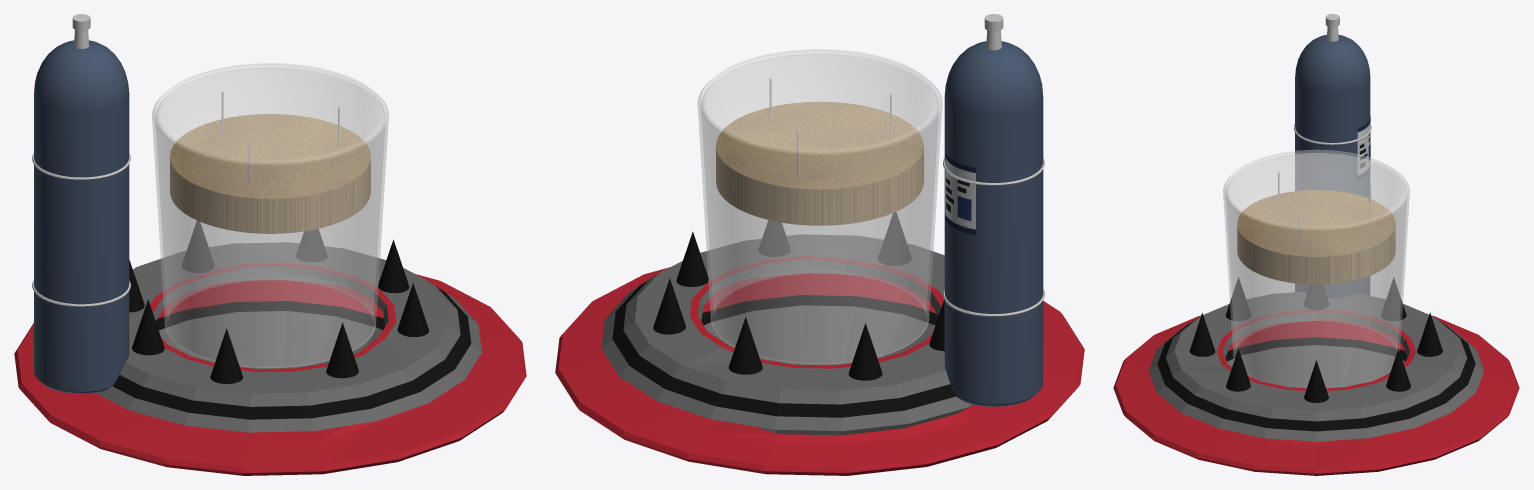
File: opus55_t04.glb
3 views of the same model, side by side, from view 1: azimuth 30°, elevation 25°; view 2: azimuth 150°, elevation 25°; view 3: azimuth 270°, elevation 25° (orthographic). The views are drawn at different scales.
Parts seen in each view (by area): view 1: slot_anchor_saucer, cover_glass, gas_cylinder_body, cover_disc, gas_cylinder_valve; view 2: slot_anchor_saucer, cover_glass, gas_cylinder_body, cover_disc, gas_cylinder_label, gas_cylinder_valve; view 3: slot_anchor_saucer, cover_glass, cover_disc, gas_cylinder_body, gas_cylinder_label, gas_cylinder_valve.
Boxes of the visible parts, <box> form: slot_anchor_saucer: <box>14,221,526,475</box>; cover_glass: <box>152,63,388,367</box>; gas_cylinder_body: <box>34,40,129,393</box>; cover_disc: <box>170,114,370,233</box>; gas_cylinder_valve: <box>32,14,130,306</box>; slot_anchor_saucer: <box>555,212,1084,475</box>; cover_glass: <box>697,49,942,364</box>; gas_cylinder_body: <box>944,41,1043,406</box>; cover_disc: <box>716,101,923,225</box>; gas_cylinder_label: <box>945,153,975,235</box>; gas_cylinder_valve: <box>943,14,1044,316</box>; slot_anchor_saucer: <box>1113,277,1519,475</box>; cover_glass: <box>1223,150,1409,387</box>; cover_disc: <box>1237,190,1395,284</box>; gas_cylinder_body: <box>1295,35,1370,297</box>; gas_cylinder_label: <box>1357,116,1370,179</box>; gas_cylinder_valve: <box>1293,14,1371,145</box>.
Bounding box in the file's own units: 2 × 1.98 × 2.
7 materials, 3 textured.
